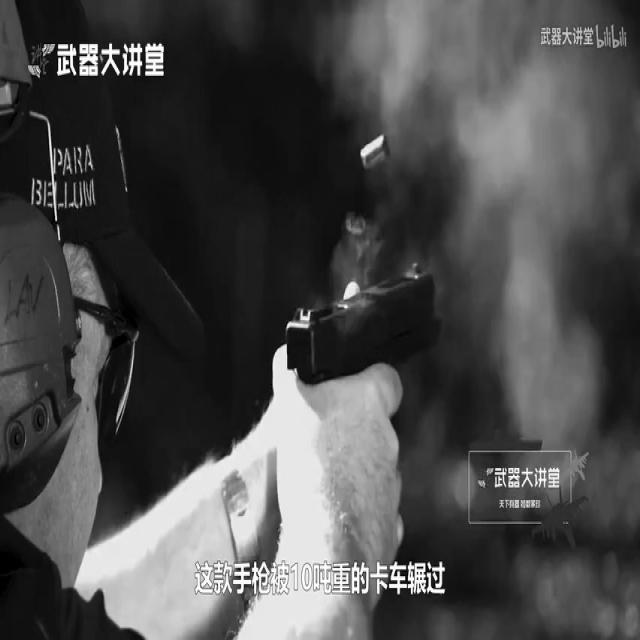Hand-Gun: (271, 146, 481, 514)
